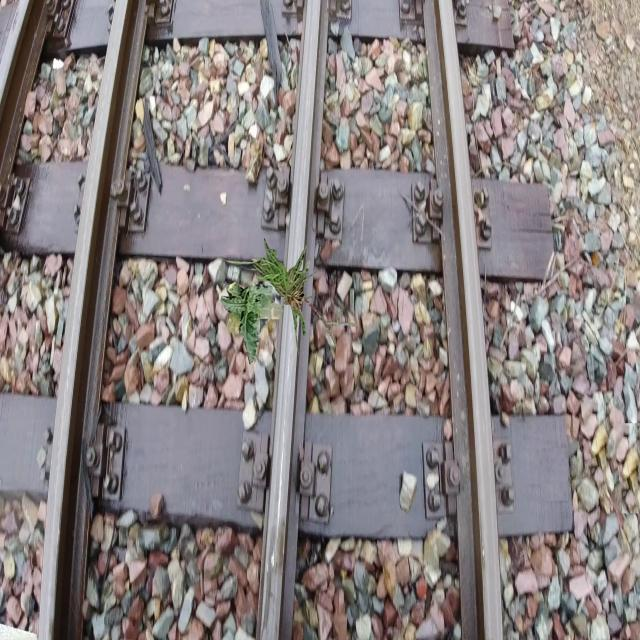Plant: (216, 238, 359, 358), (220, 282, 284, 365)
